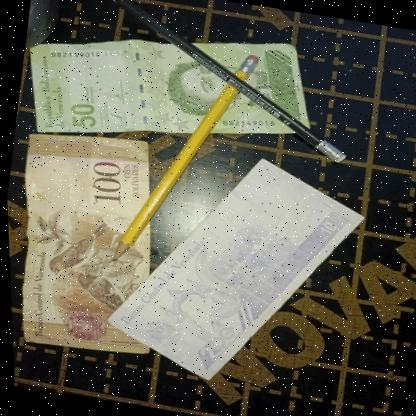fifty-front-vef: (15, 3, 323, 174)
ten-back-vef: (91, 136, 375, 402)
